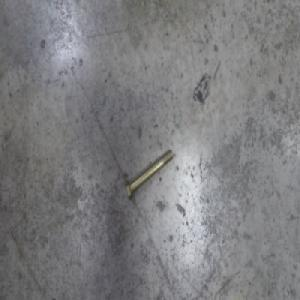Bolt: (124, 145, 174, 202)
